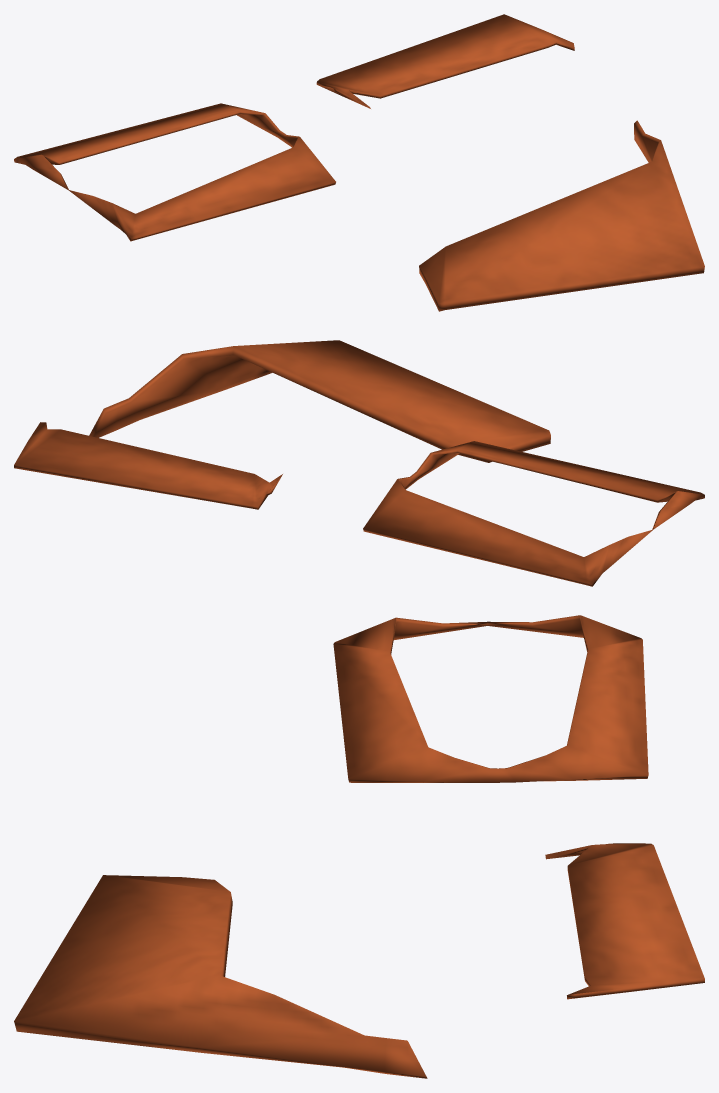
The model's file is TentScraps_Orange.obj.
3 views of the same model, one above another, from view 1: azimuth 30°, elevation 25°; view 2: azimuth 150°, elevation 25°; view 3: azimuth 270°, elevation 25° (orthographic). The views are drawn at different scales.
Parts seen in each view (by area): view 1: TentScraps.001_Material, TentScraps.002_Material, TentScraps_Material; view 2: TentScraps.001_Material, TentScraps.002_Material, TentScraps_Material; view 3: TentScraps.001_Material, TentScraps.002_Material, TentScraps_Material.
Boxes of the visible parts, left/top/right/bottom form: TentScraps.001_Material: left=419, top=120, right=704, bottom=311; TentScraps.002_Material: left=14, top=103, right=335, bottom=241; TentScraps_Material: left=316, top=14, right=574, bottom=108; TentScraps.001_Material: left=89, top=340, right=550, bottom=462; TentScraps.002_Material: left=363, top=441, right=704, bottom=586; TentScraps_Material: left=14, top=422, right=282, bottom=509; TentScraps.001_Material: left=14, top=875, right=427, bottom=1078; TentScraps.002_Material: left=333, top=615, right=648, bottom=782; TentScraps_Material: left=545, top=843, right=704, bottom=999.
Size of the model in its own units: 5.78 by 0.8765 by 4.6.
